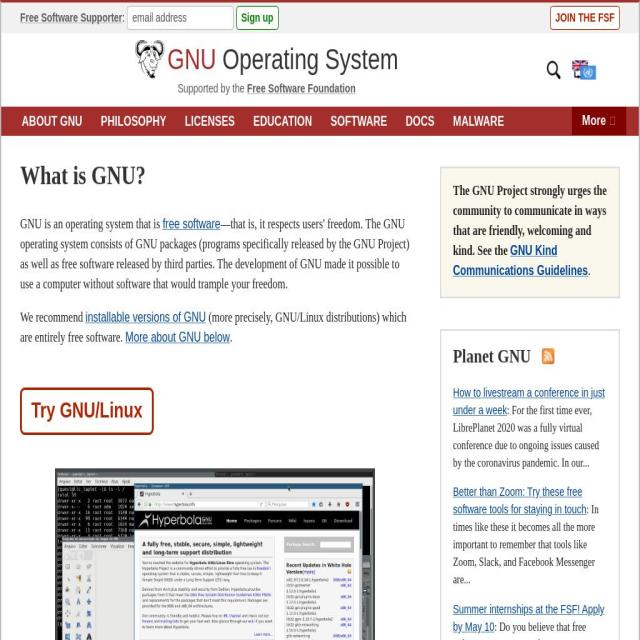button: (134, 40, 398, 73), (20, 387, 154, 436), (295, 137, 426, 165), (94, 107, 172, 135), (150, 137, 227, 165), (16, 107, 88, 135), (431, 137, 503, 165), (247, 107, 318, 135), (324, 107, 394, 135), (15, 137, 80, 165), (447, 107, 511, 135), (550, 6, 620, 31), (179, 107, 241, 135), (86, 137, 143, 165), (232, 137, 289, 165), (400, 107, 440, 135), (570, 58, 598, 82), (20, 5, 620, 6), (545, 58, 563, 82)
field: (127, 6, 234, 31), (236, 6, 278, 31)
heading: (20, 159, 410, 191), (452, 345, 534, 367), (542, 348, 554, 364)
image: (57, 471, 373, 640), (572, 107, 627, 135), (134, 40, 164, 79), (572, 59, 596, 80), (546, 59, 561, 80)
link: (453, 244, 588, 278), (85, 310, 206, 325), (125, 330, 230, 345), (247, 82, 356, 96), (20, 11, 123, 25), (167, 49, 216, 70), (162, 216, 222, 232)
text: (20, 216, 410, 292), (20, 310, 407, 345), (452, 502, 598, 586), (452, 184, 607, 258), (452, 403, 600, 470), (453, 386, 605, 417), (452, 602, 604, 633), (452, 485, 586, 517), (222, 49, 399, 70), (452, 619, 596, 640), (20, 216, 163, 232), (20, 310, 86, 325), (178, 82, 248, 96), (122, 11, 127, 25), (230, 330, 232, 345), (588, 264, 590, 278)
